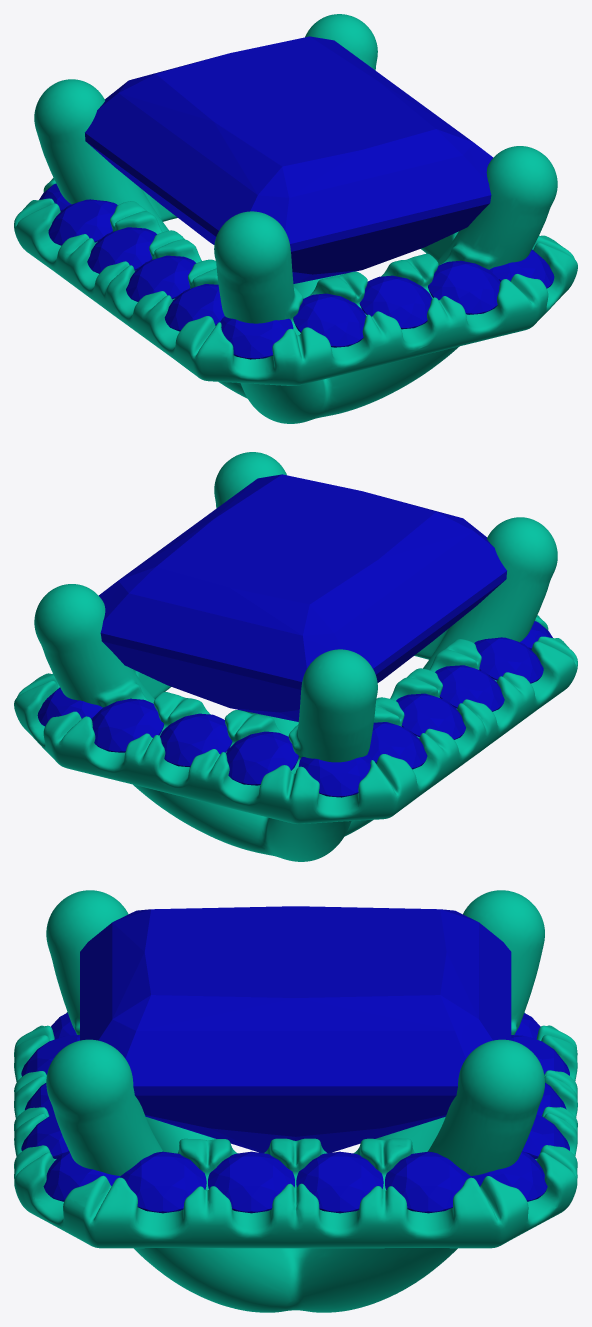
The model's file is Radiant.glb.
3 renders of one model, top to bottom at view 1: azimuth 30°, elevation 25°; view 2: azimuth 150°, elevation 25°; view 3: azimuth 270°, elevation 25°, orthographic. The views are drawn at different scales.
Visible parts, largest first — view 1: /Radiant Single Halo.3dm, Diamond_Radiant, Diamond_Round (×9); view 2: /Radiant Single Halo.3dm, Diamond_Radiant, Diamond_Round (×9); view 3: /Radiant Single Halo.3dm, Diamond_Radiant, Diamond_Round (×10).
Part boxes in pixels (box(x1,y1,x2,y2)): /Radiant Single Halo.3dm: box(14, 14, 577, 423); Diamond_Radiant: box(85, 36, 493, 283); Diamond_Round (×9): box(48, 199, 554, 359); /Radiant Single Halo.3dm: box(14, 452, 577, 861); Diamond_Radiant: box(98, 474, 506, 721); Diamond_Round (×9): box(37, 637, 543, 797); /Radiant Single Halo.3dm: box(14, 890, 577, 1312); Diamond_Radiant: box(80, 906, 511, 1153); Diamond_Round (×10): box(21, 1035, 569, 1213).
Size of the model in its own units: 8.84 by 6.69 by 9.82.
